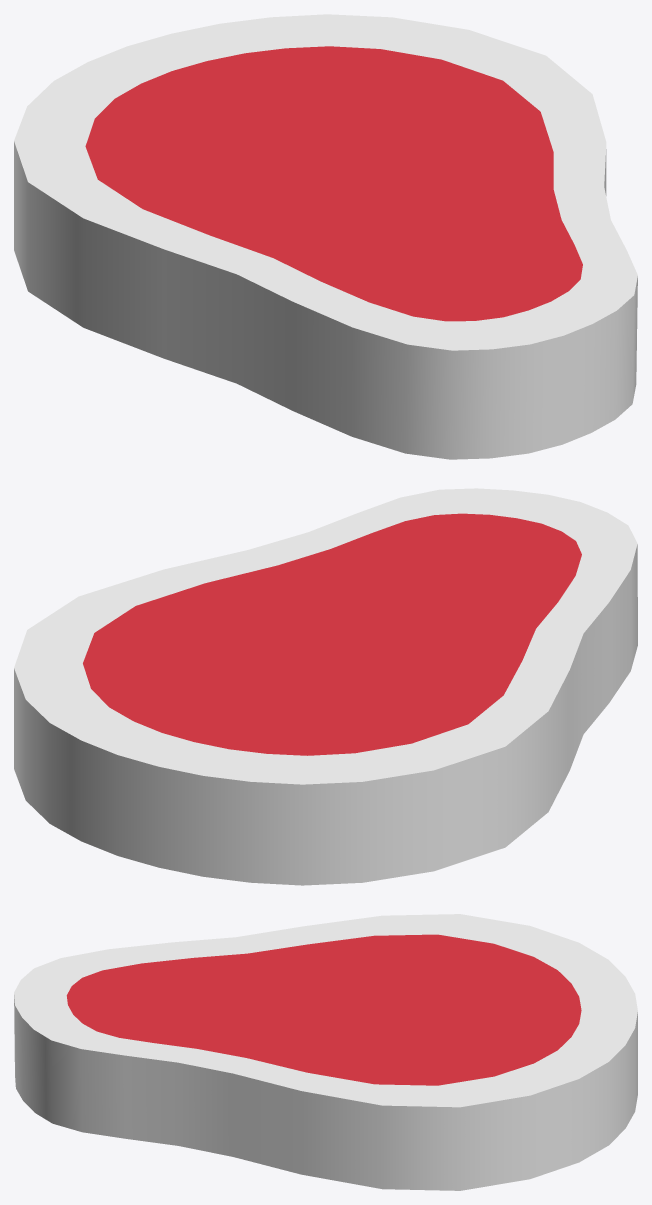
File: Meat.fbx
The picture shows the model from 3 angles, top to bottom: view 1: azimuth 30°, elevation 25°; view 2: azimuth 150°, elevation 25°; view 3: azimuth 270°, elevation 25°; orthographic projection. The views are drawn at different scales.
Parts seen in each view (by area): view 1: Meat; view 2: Meat; view 3: Meat.
Part boxes in pixels (x1=…): Meat: x1=14, y1=14, x2=637, y2=459; Meat: x1=14, y1=488, x2=637, y2=885; Meat: x1=14, y1=914, x2=637, y2=1190.
Size of the model in its own units: 122 by 24.52 by 166.
